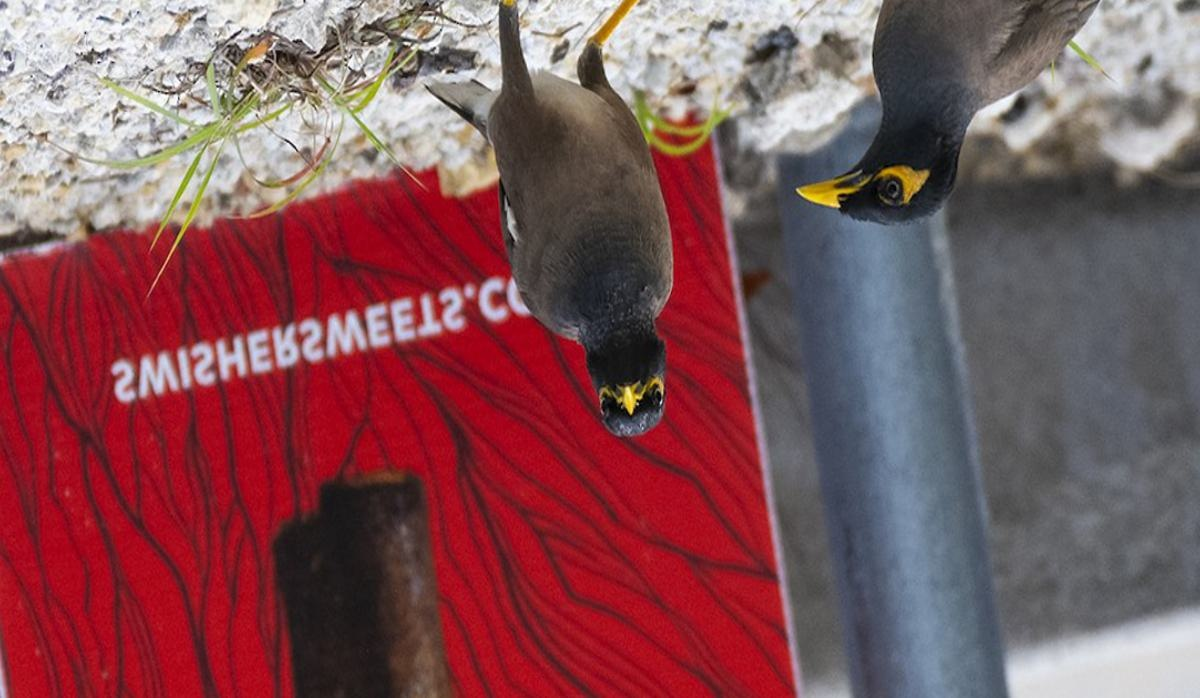myna: (451, 1, 733, 462), (793, 1, 1125, 243)
